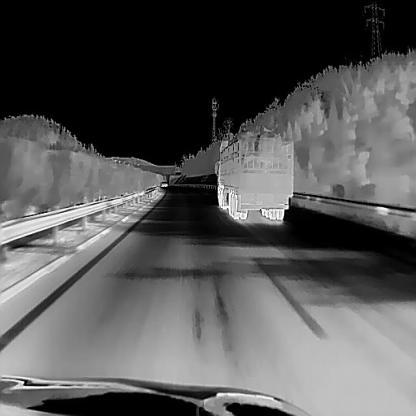car: (214, 138, 293, 220)
